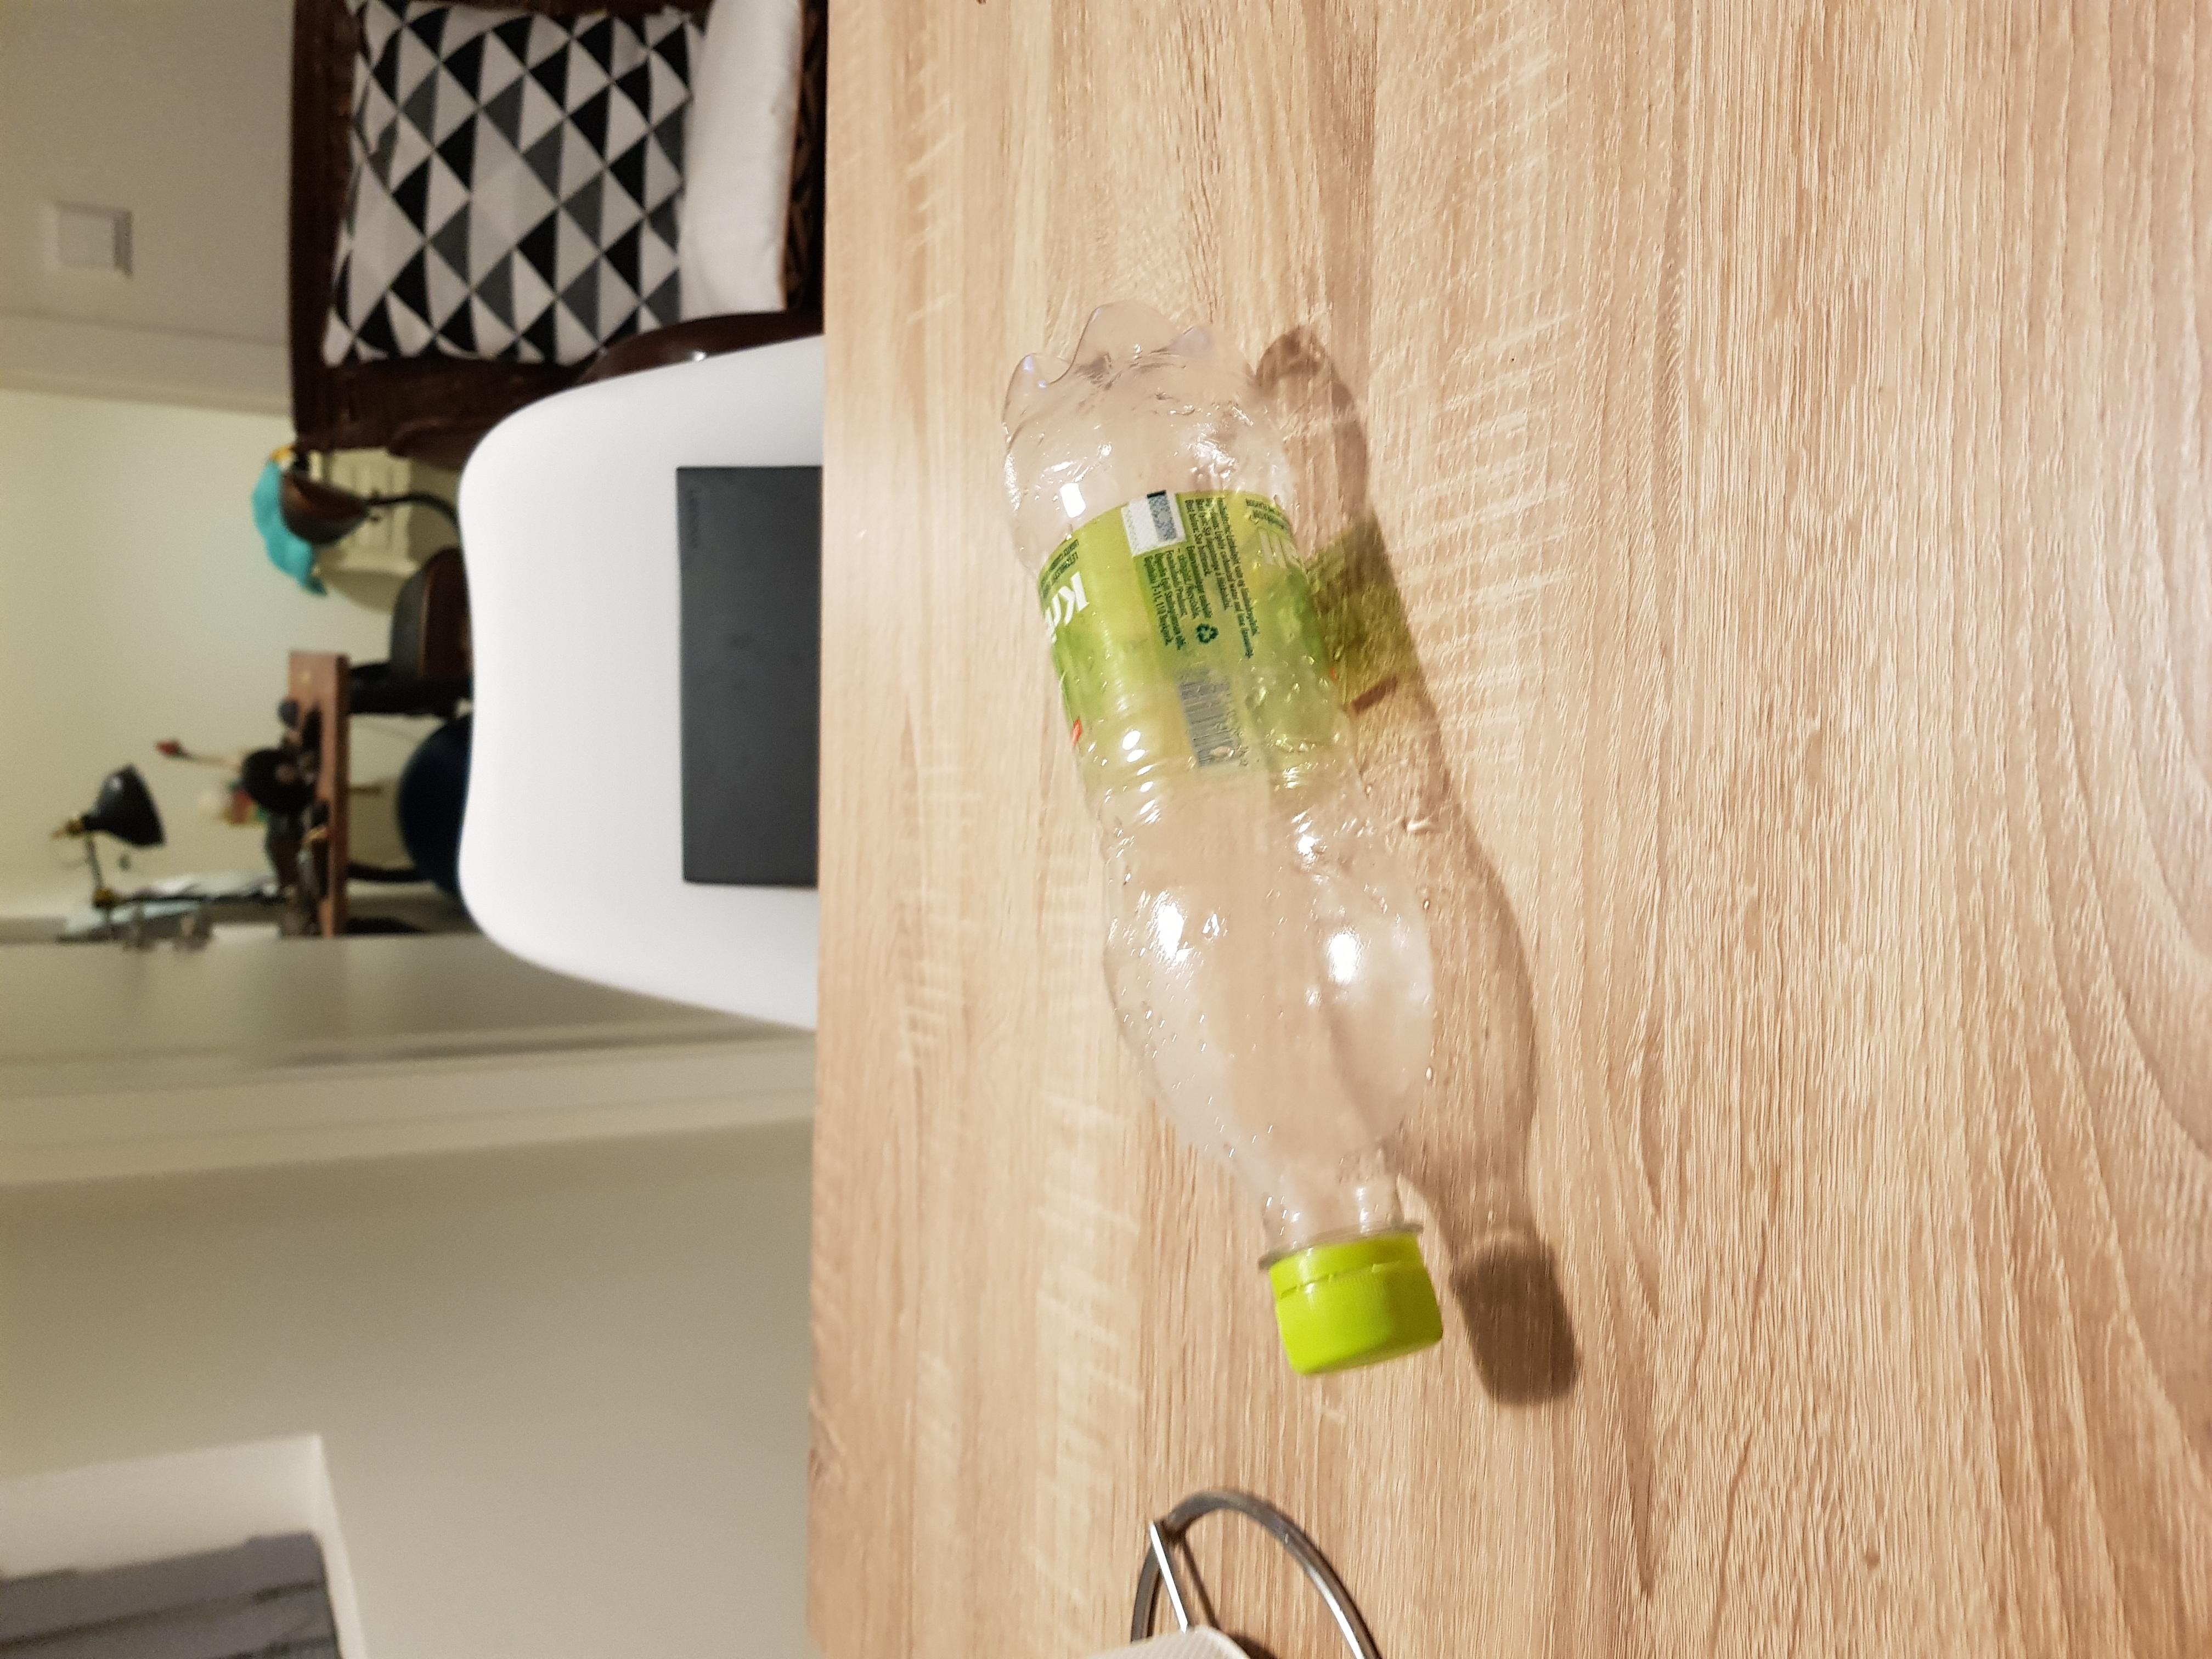Bottle: (986, 282, 1440, 1377)
